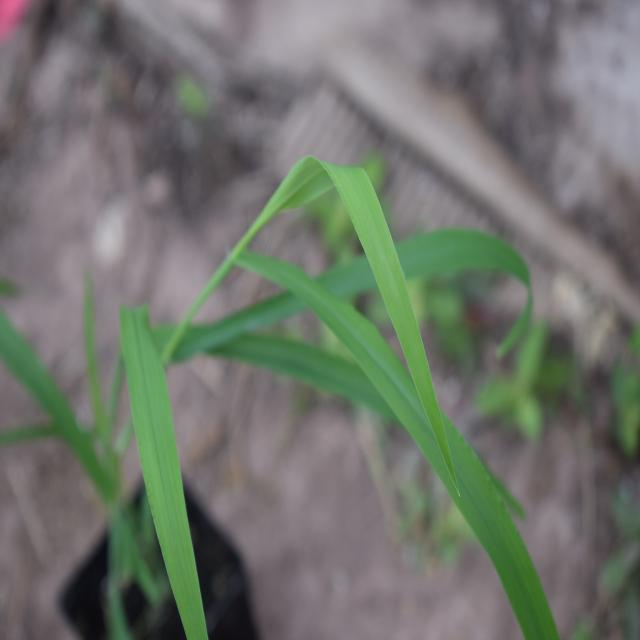crabgrass: (62, 135, 531, 557)
